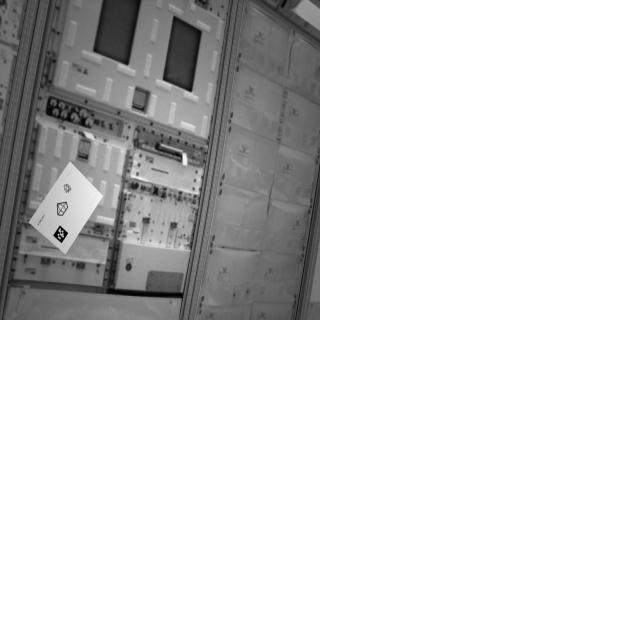coral: (63, 182, 76, 199)
diamond: (56, 202, 70, 220)
